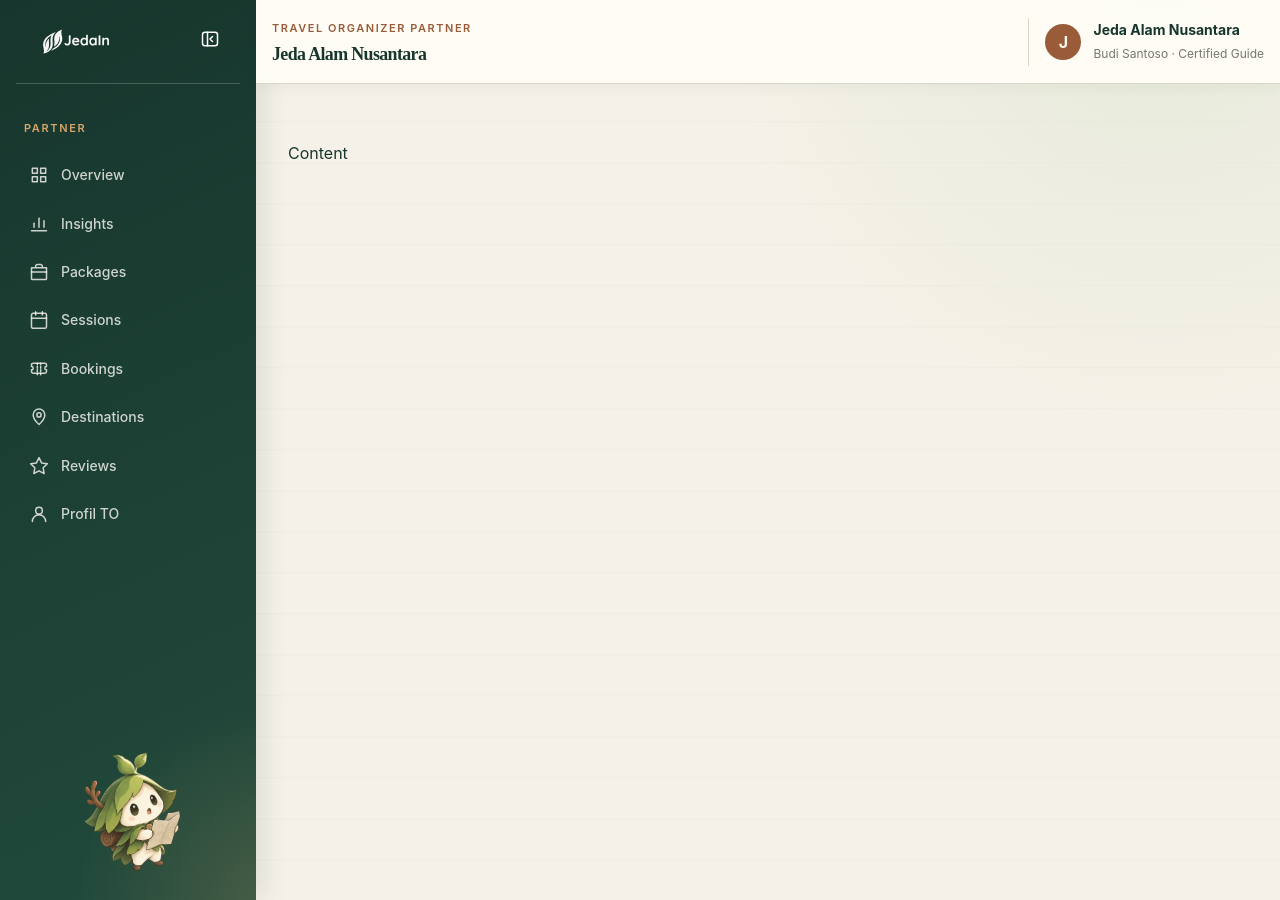
Scenario: responsive workspace navigation semantics › toggles desktop collapsed state and updates accessible label
Note: Click collapse
Click the button named "Minimalkan navigasi". click: (210, 42)
box: x1=188 y1=20 x2=232 y2=64
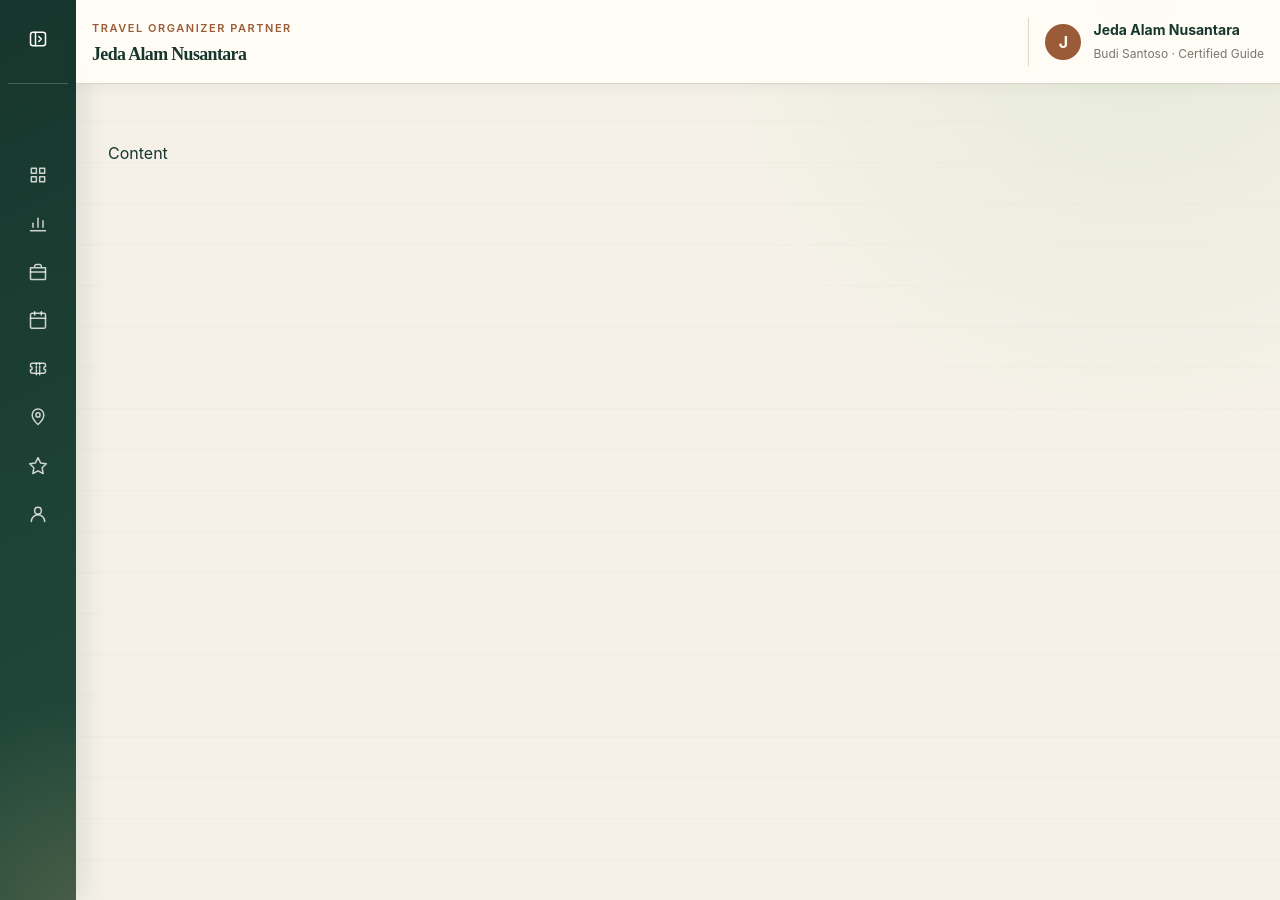
Result: the element with class "workspace-sidebar" has attribute data-collapsed at x1=0 y1=0 x2=76 y2=899
Result: the element with class "workspace-shell" has attribute data-sidebar-collapsed
Note: Click expand
Click the button named "Minimalkan navigasi". click: (38, 42)
box: x1=16 y1=20 x2=60 y2=64
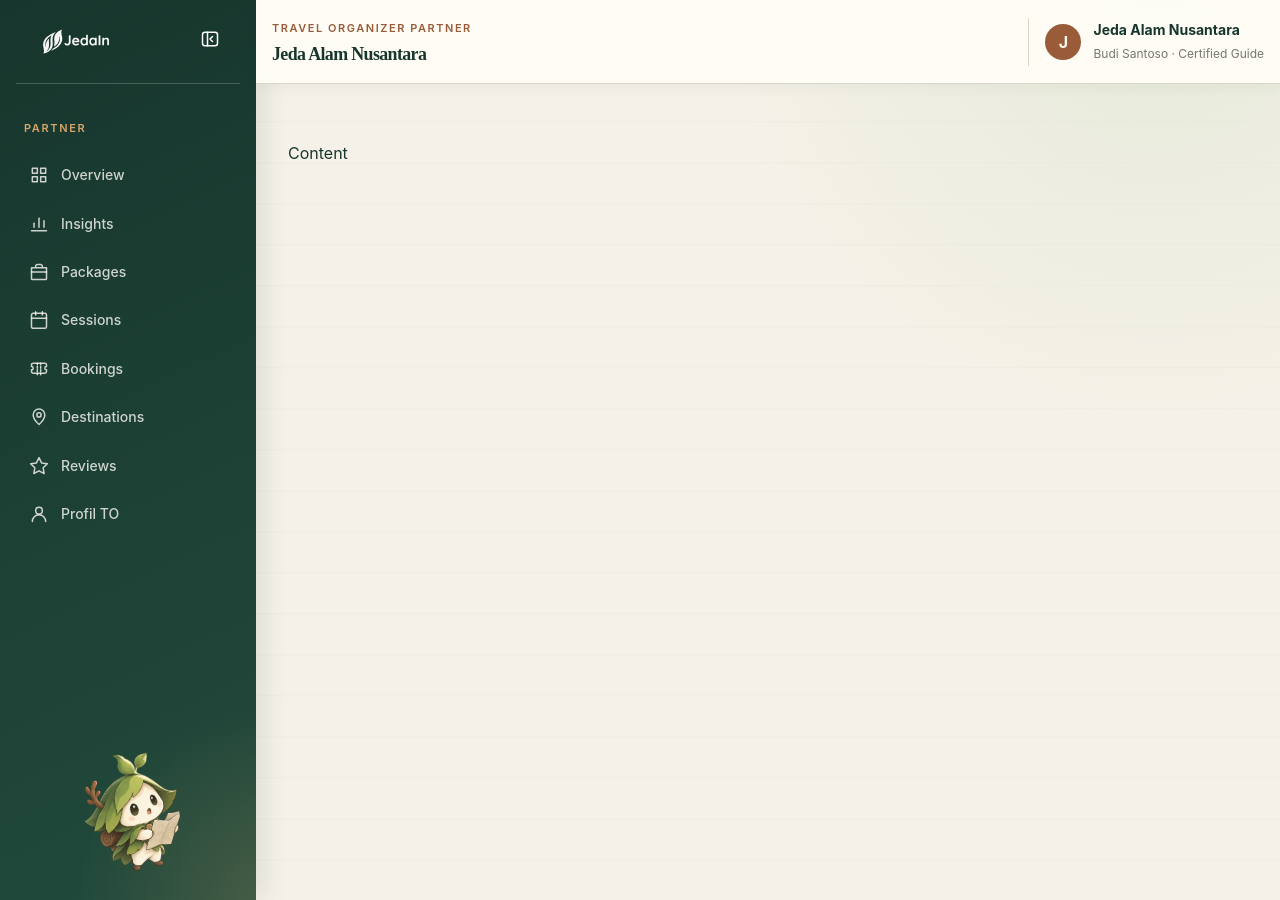
Result: the element with class "workspace-sidebar" does not have attribute data-collapsed at x1=0 y1=0 x2=256 y2=899
Result: the element with class "workspace-shell" does not have attribute data-sidebar-collapsed
